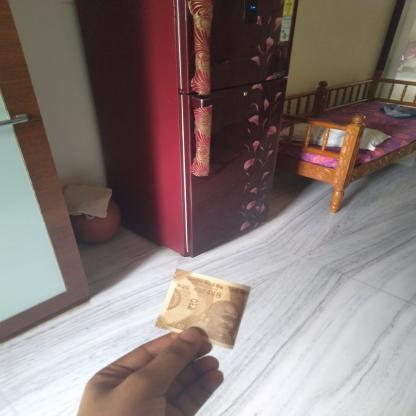New10Front: (157, 272, 249, 346)
